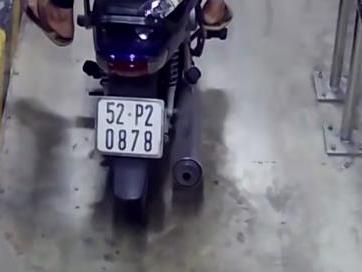num_plate: (98, 99, 160, 156)
